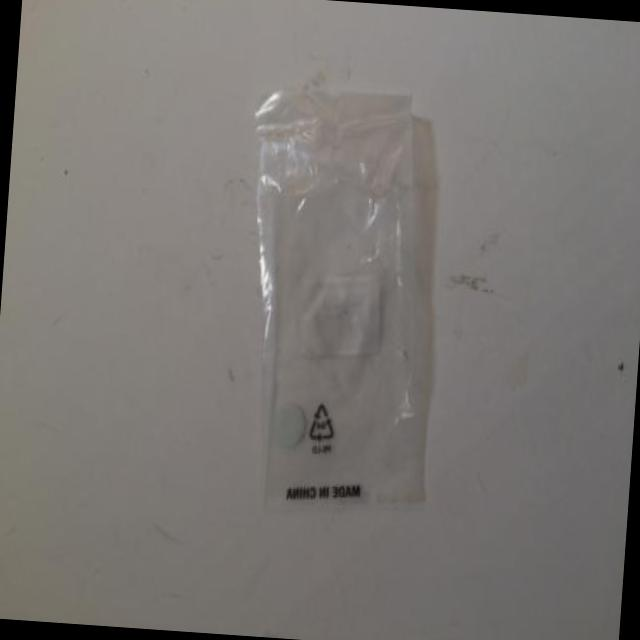Recycle: (224, 108, 456, 522)
